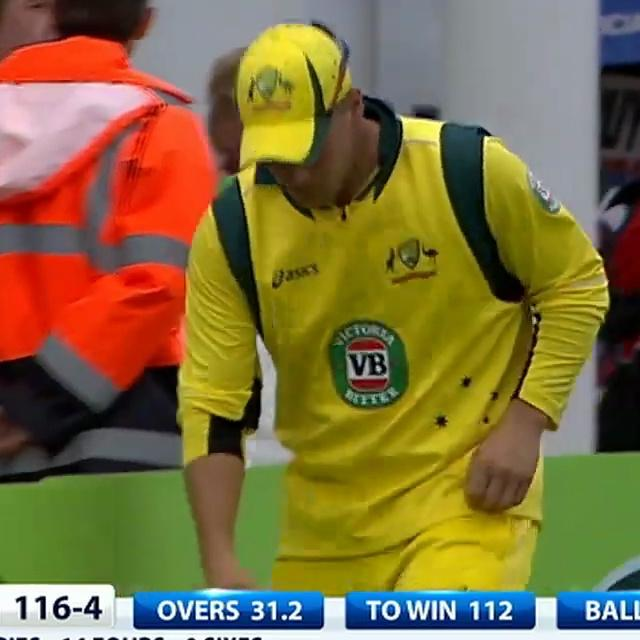person: (528, 0, 640, 448)
